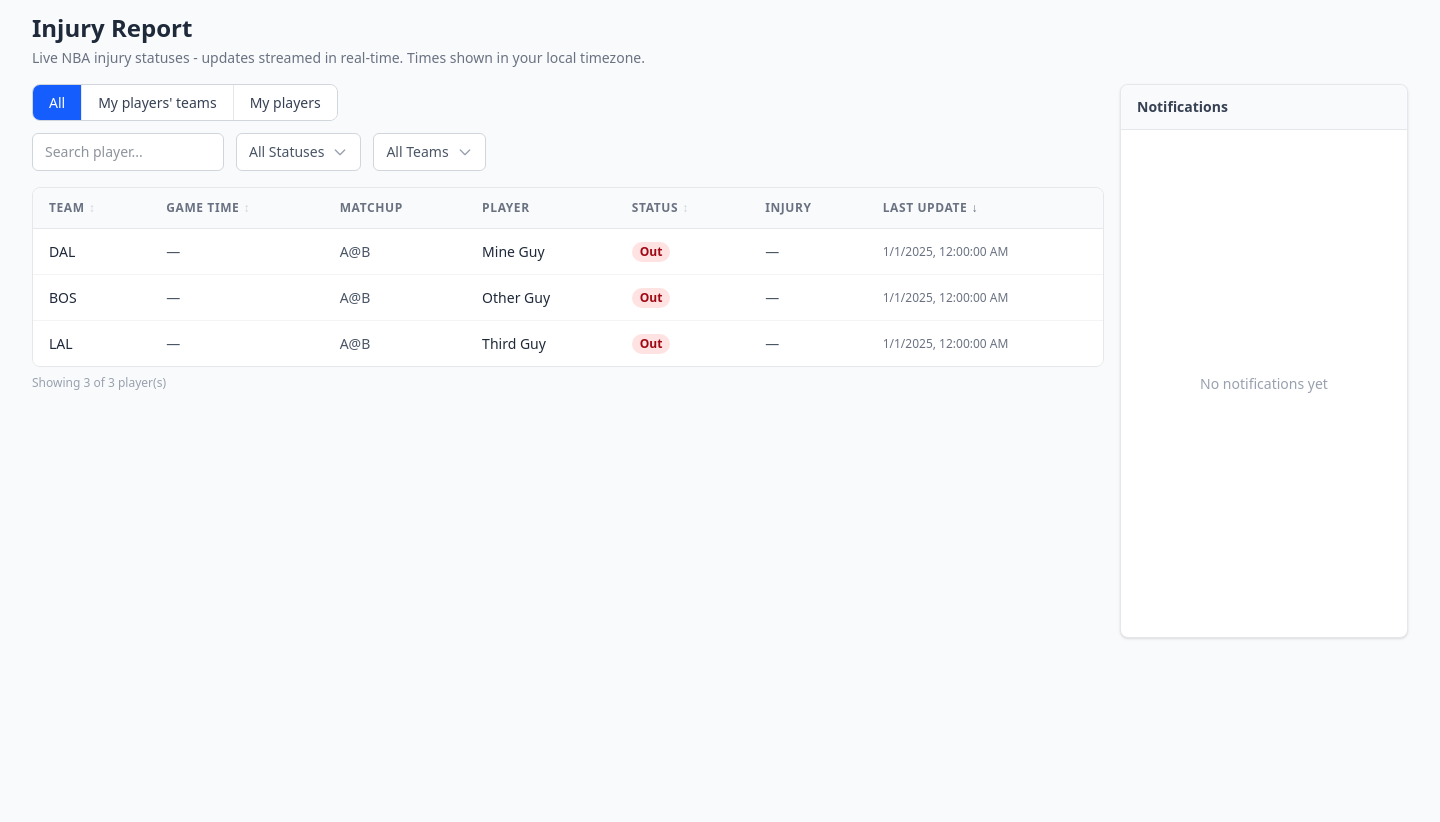
Test: Injuries page with My Team set › limits the team dropdown to scoped teams and drops out-of-scope picks
The width and height of the screenshot is (1440, 822).
Click the button "All Teams": [430, 152] box [373,133,486,171]
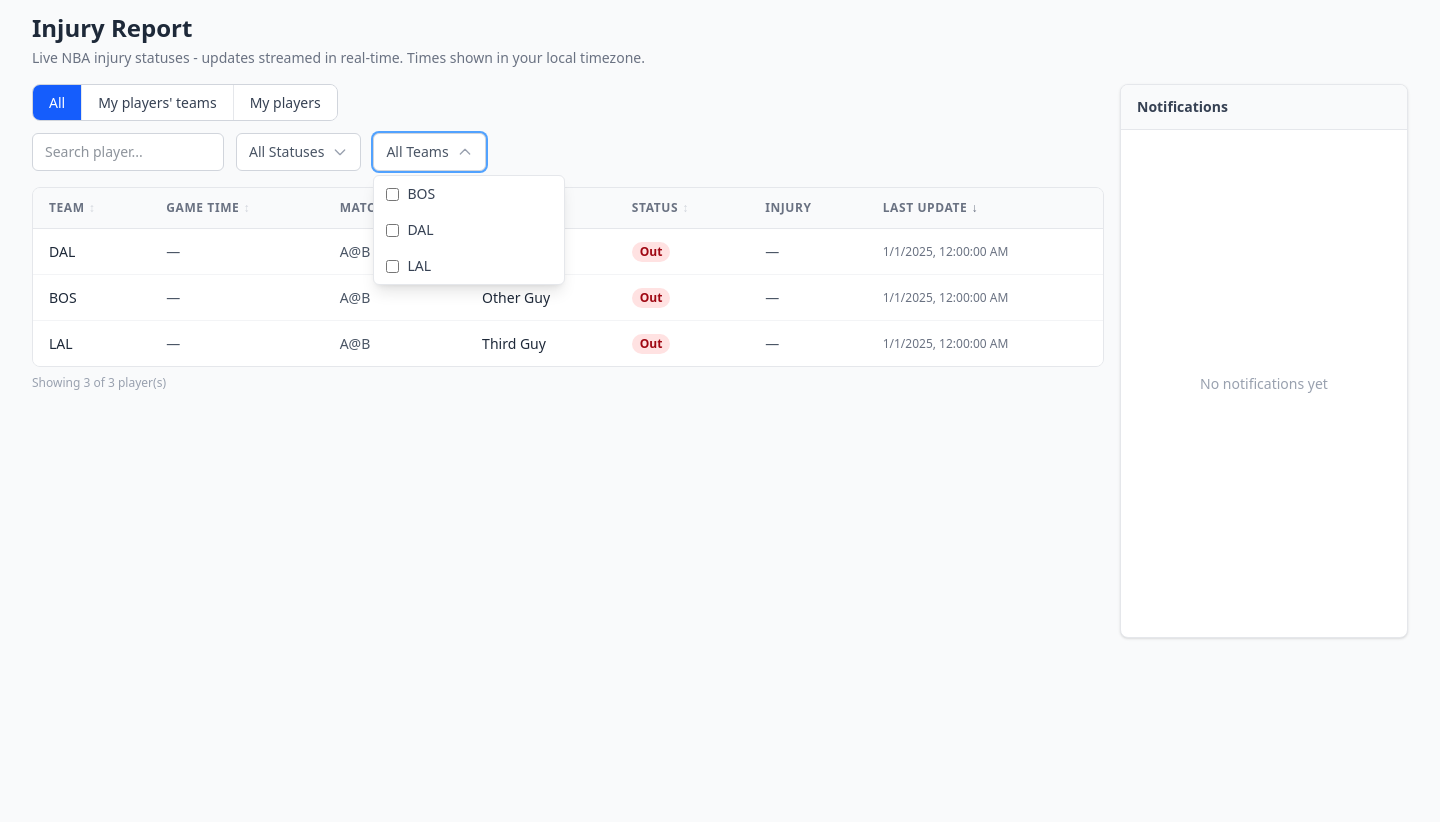
Click the checkbox labelled "LAL": [393, 266] box [386,260,399,273]
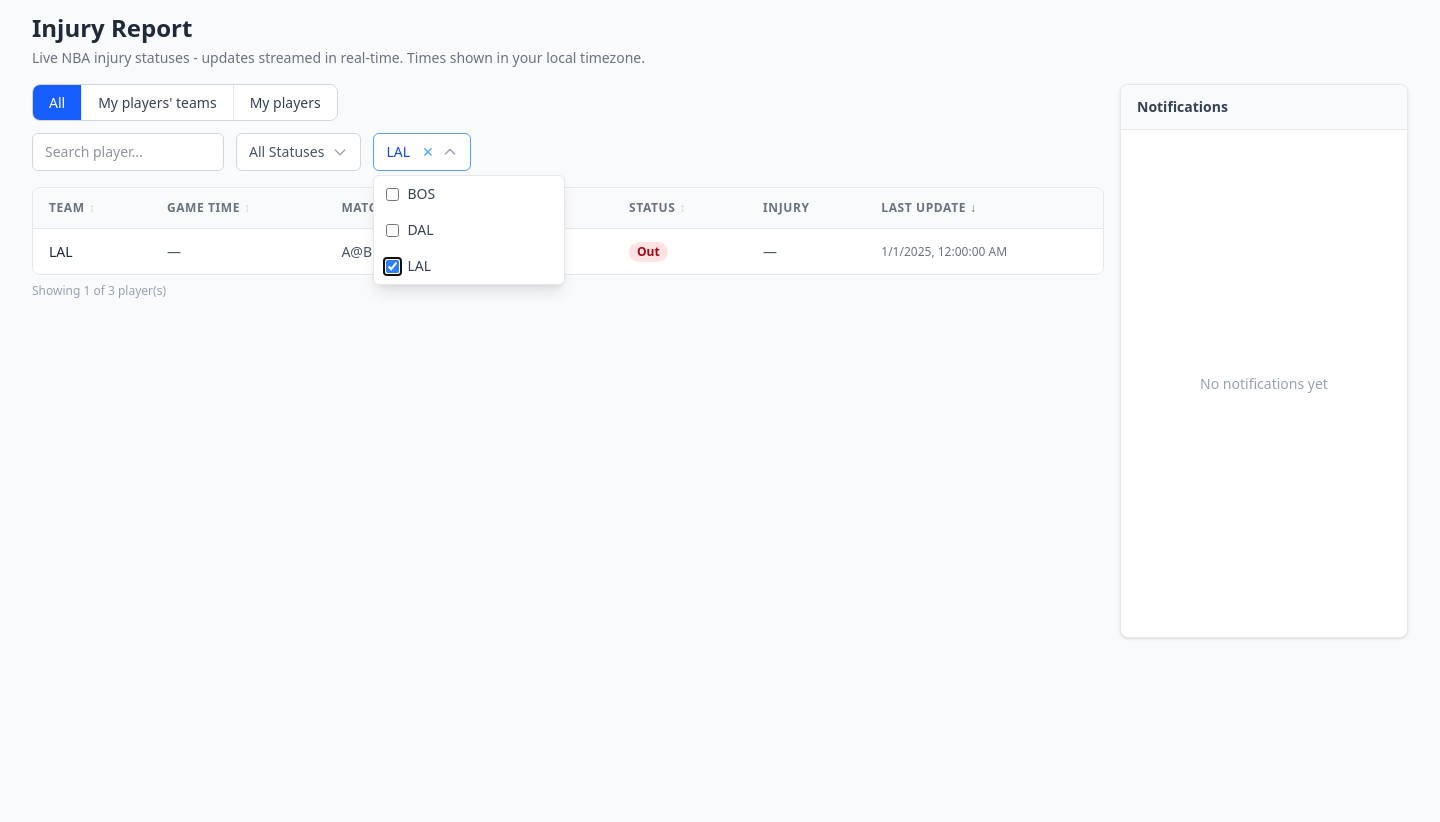
Expected: the text "Showing 1 of 3 player(s)" is shown, [32,282,166,299]
Click the radio button labelled "My players' teams": [158, 103] box [82,85,234,120]
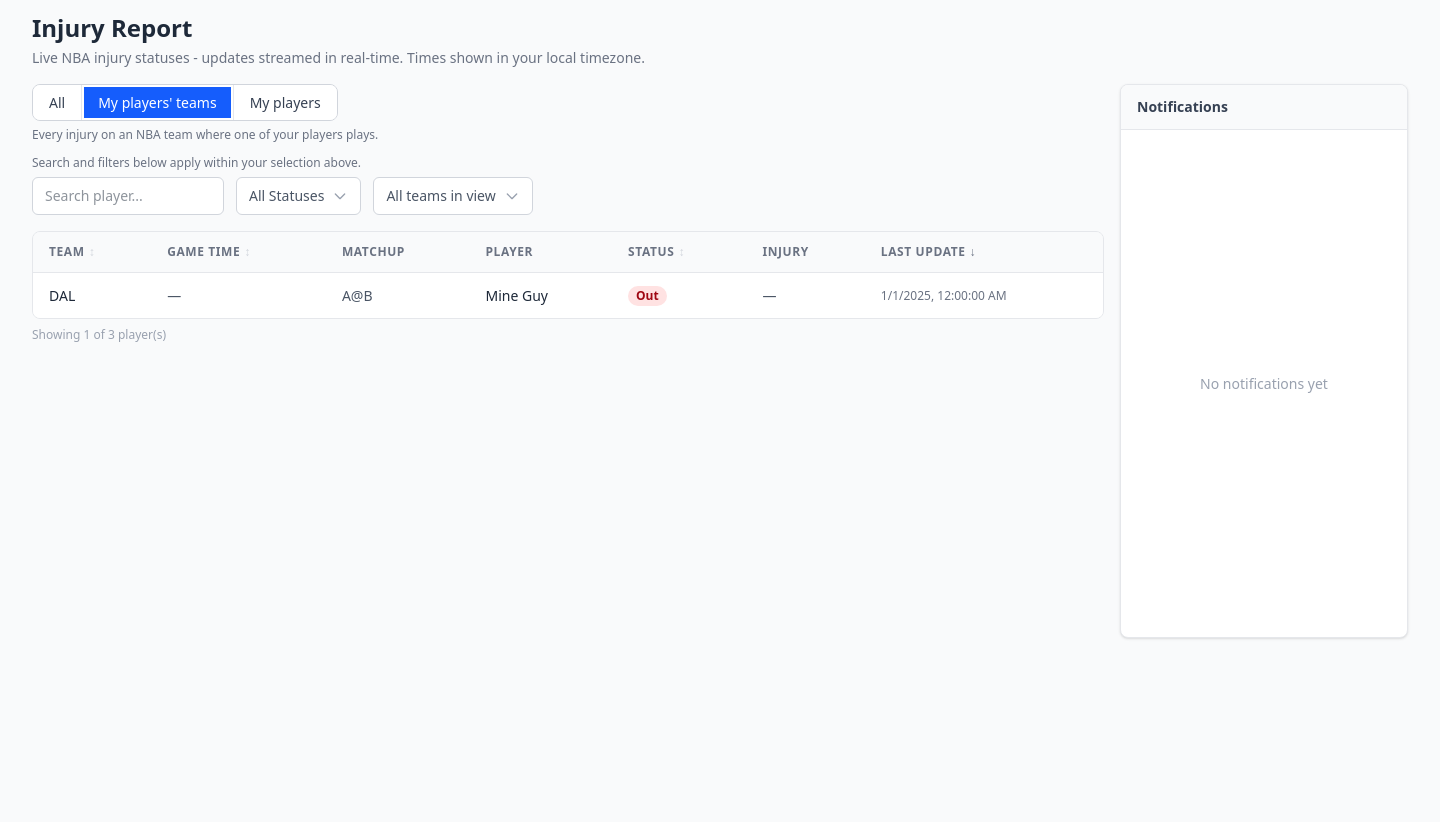
Expected: the text "Showing 1 of 3 player(s)" is shown, [32,326,166,343]
Expected: the button "All teams in view" is shown
Click the button "All teams in view": [453, 196] box [373,177,533,215]
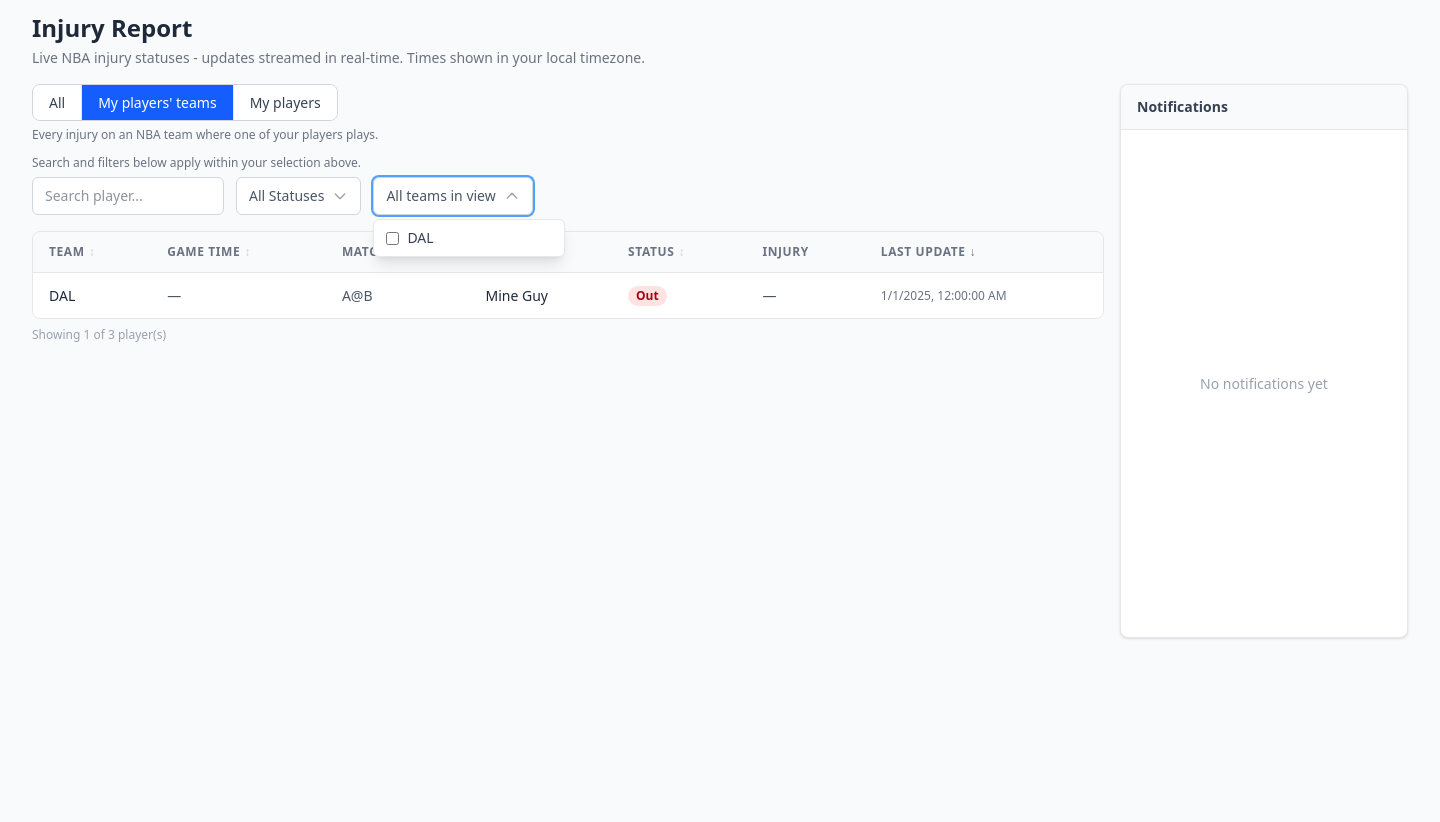
Expected: the button "LAL" is not shown
Expected: the checkbox labelled "DAL" is shown, [386,232,399,245]
